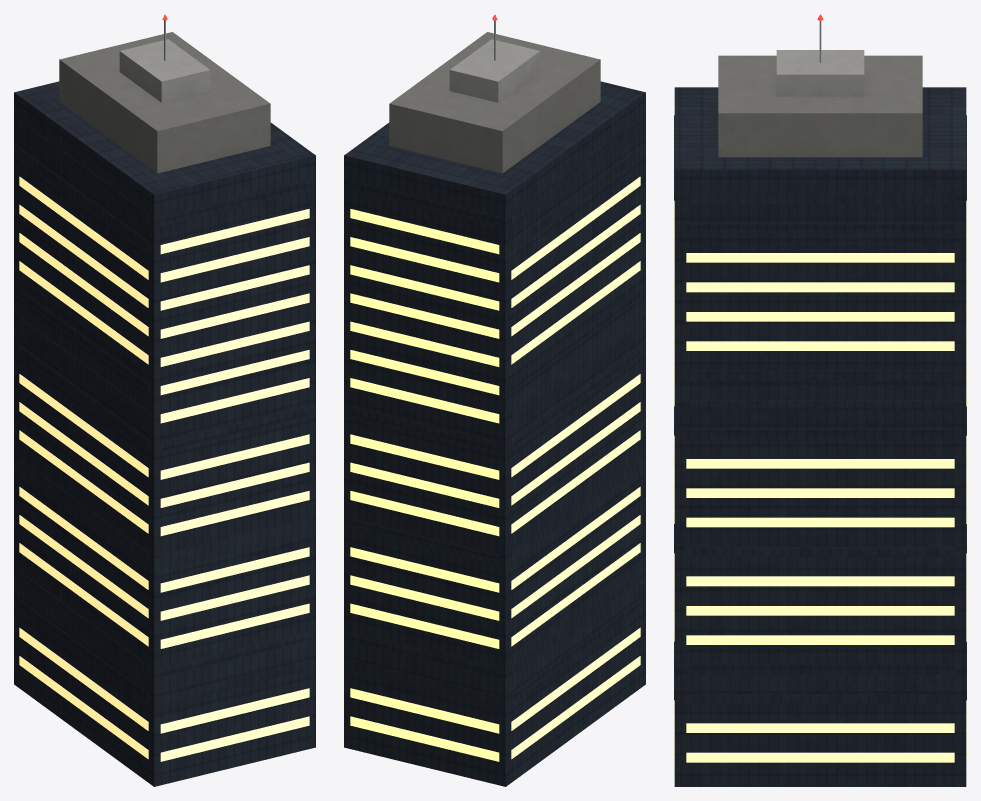
The model's file is skyskrapa_2_tex.glb.
3 views of the same model, side by side, from view 1: azimuth 30°, elevation 25°; view 2: azimuth 150°, elevation 25°; view 3: azimuth 270°, elevation 25° (orthographic). The views are drawn at different scales.
Visible parts, largest first — view 1: skyskrapa_2; view 2: skyskrapa_2; view 3: skyskrapa_2.
Boxes of the visible parts, <box> form: skyskrapa_2: <box>14,14,315,786</box>; skyskrapa_2: <box>344,14,645,786</box>; skyskrapa_2: <box>674,14,966,786</box>.
Size of the model in its own units: 24.1 by 99.58 by 36.1.
6 materials, 3 textured.
